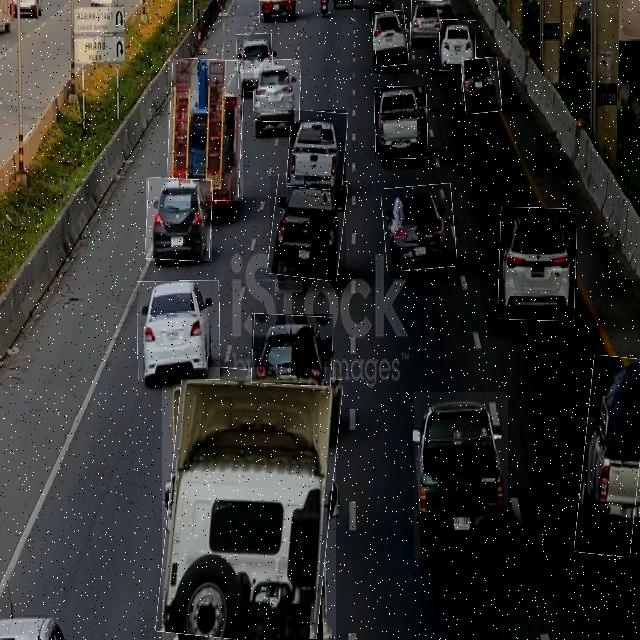Car: (499, 208, 577, 320), (138, 281, 220, 380), (382, 185, 456, 270), (252, 314, 333, 385), (146, 178, 212, 261), (288, 110, 346, 189), (254, 60, 300, 122), (462, 58, 502, 114), (236, 34, 273, 89), (374, 11, 408, 66), (440, 20, 476, 71), (410, 0, 444, 42), (259, 0, 296, 23)
Truck: (162, 367, 336, 640), (414, 392, 508, 558), (579, 356, 640, 556), (168, 59, 243, 201), (270, 176, 346, 280), (375, 86, 427, 159)
